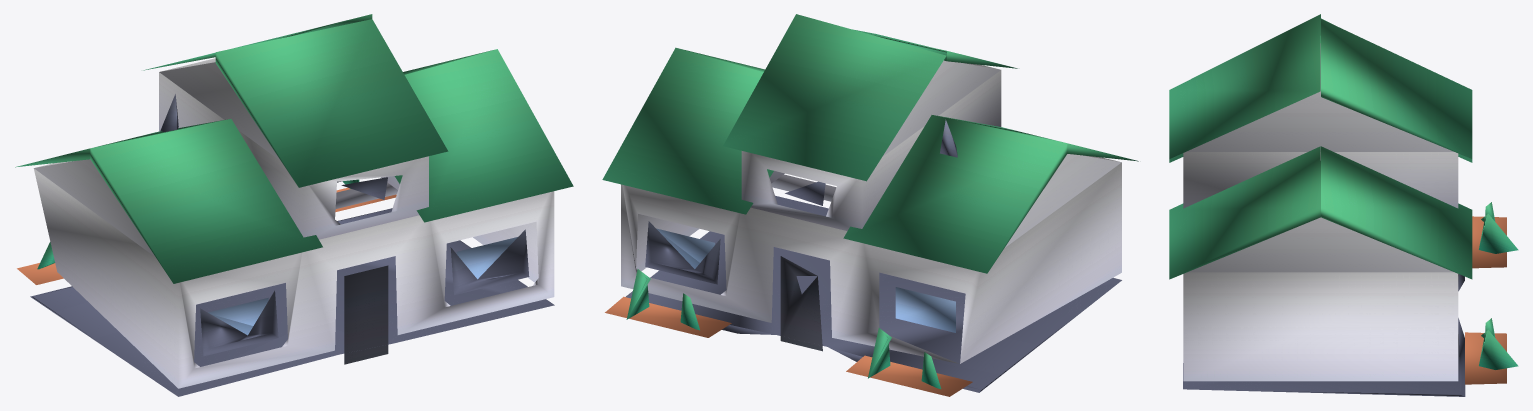
Rendered from house-a-low.glb.
The picture shows the model from 3 angles, left to right: view 1: azimuth 30°, elevation 25°; view 2: azimuth 150°, elevation 25°; view 3: azimuth 270°, elevation 25°; orthographic projection. The views are drawn at different scales.
Parts seen in each view (by area): view 1: building-type-a baked; view 2: building-type-a baked; view 3: building-type-a baked.
Part boxes in pixels (<box>): building-type-a baked: <box>15,14,573,396</box>; building-type-a baked: <box>602,14,1138,396</box>; building-type-a baked: <box>1169,14,1518,396</box>.
Size of the model in its own units: 10.92 by 7 by 8.54.
Materials: 1 (1 with a texture image).
